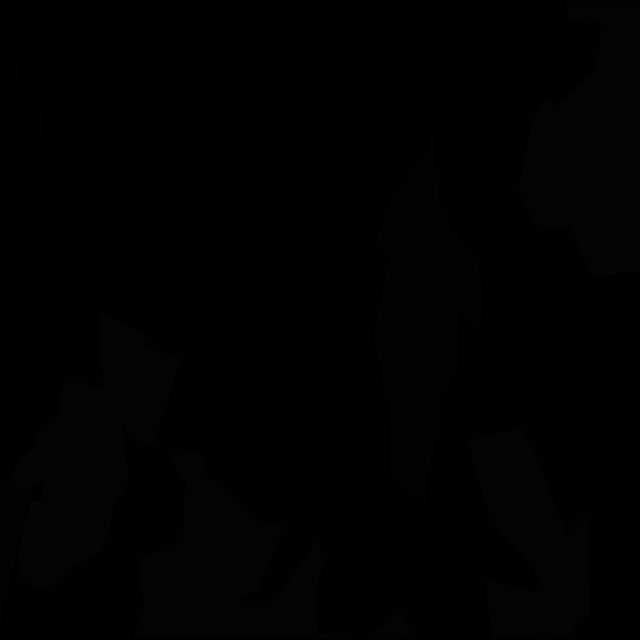cardboard: (373, 135, 485, 502), (0, 477, 32, 625)
rigid_plastic: (0, 1, 99, 144)
soft_plastic: (134, 451, 412, 638), (518, 1, 640, 276), (10, 357, 129, 590), (468, 426, 590, 638), (100, 313, 180, 448)
